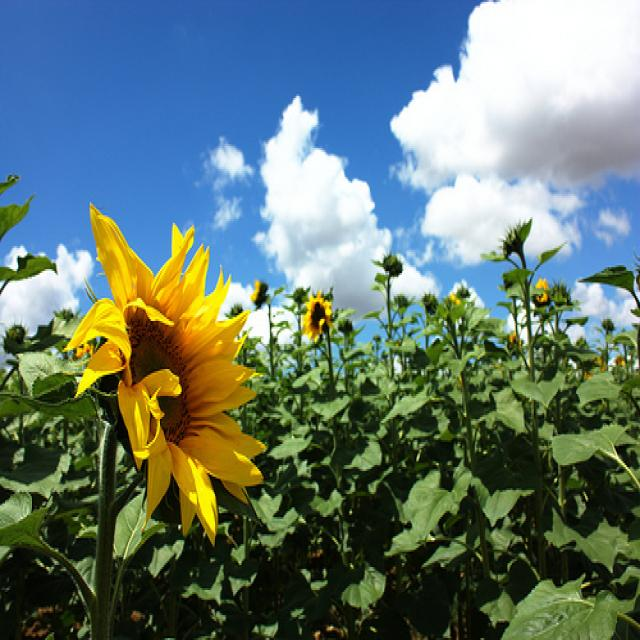sunflower: (71, 182, 278, 546)
